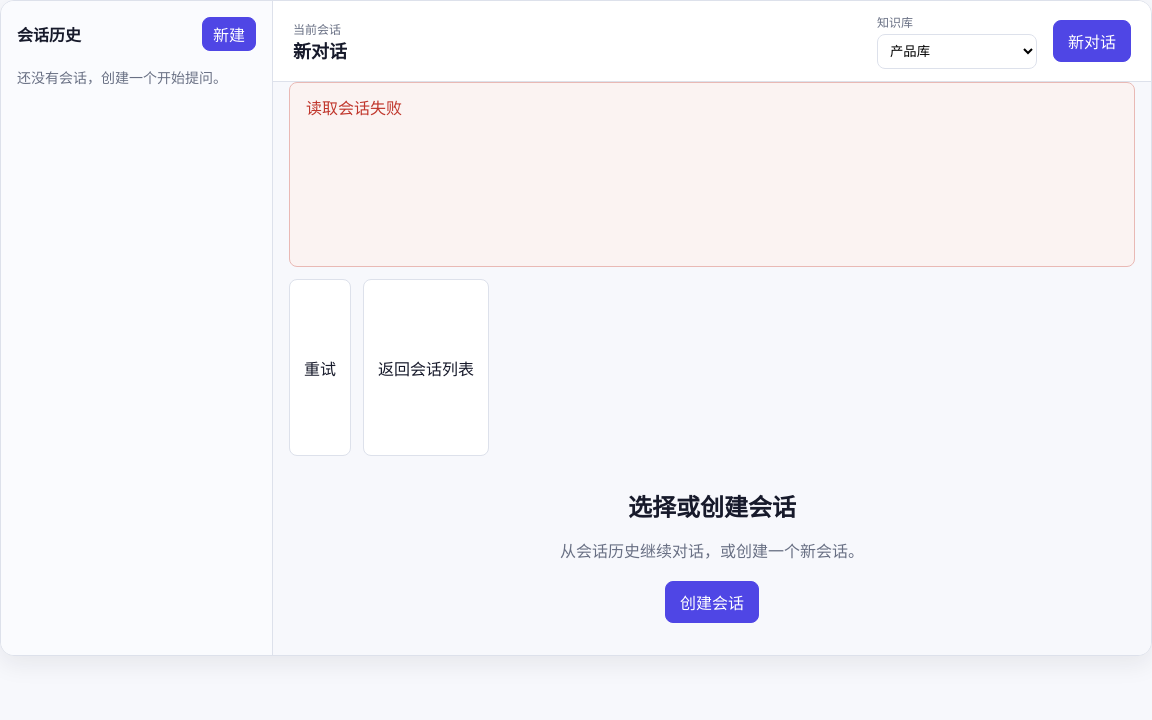
Test: ChatPage › shows and retries a normalized non-404 GET failure
Step 1. Click the button named "retry-conversation" → {"x": 320, "y": 368}, box [289, 279, 351, 456]
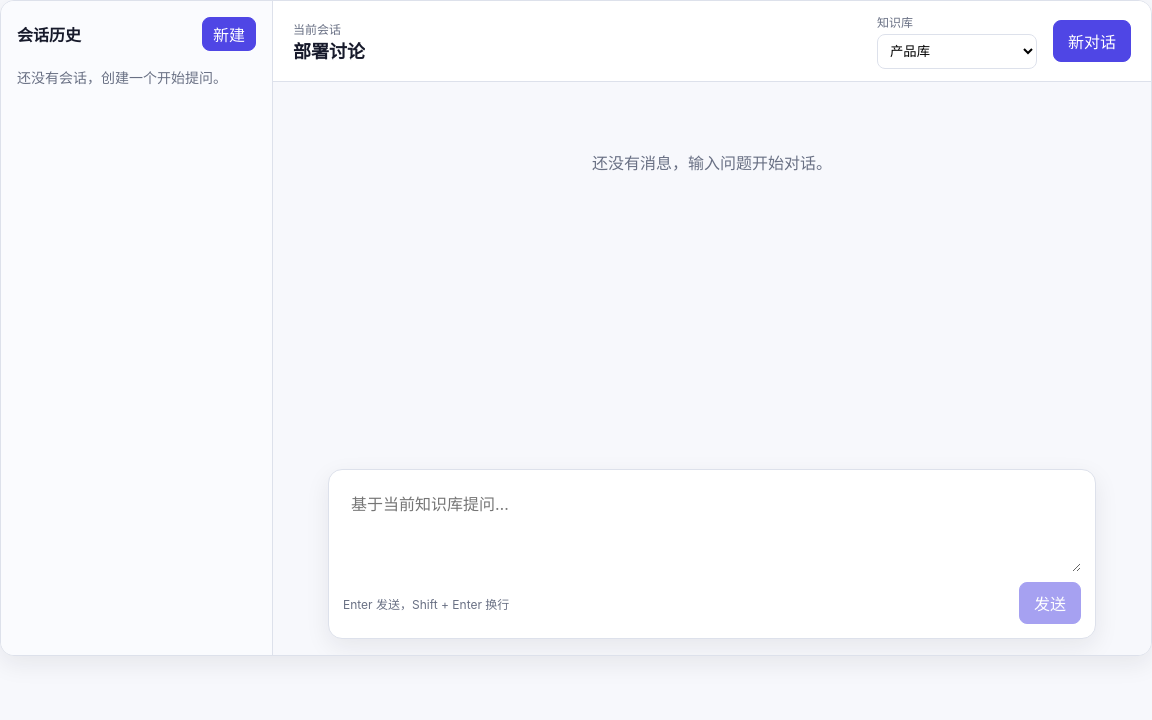
Result: the text "部署讨论" is shown at [293, 36, 365, 62]
